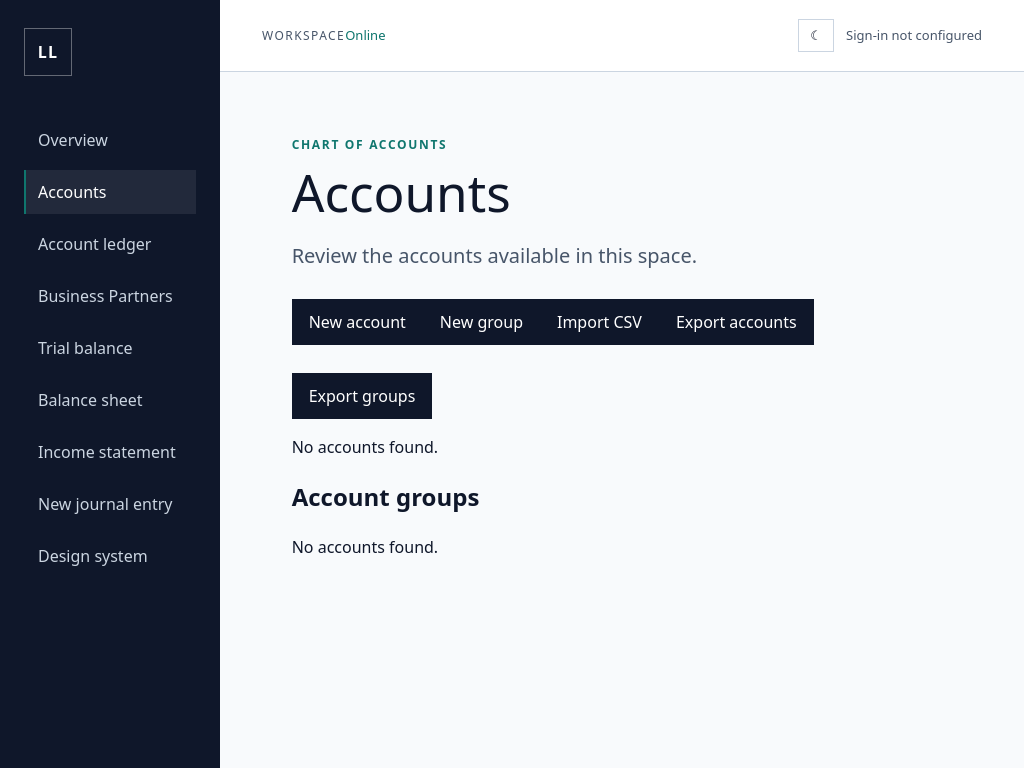
it: app routes › navigates from the shell account-ledger link to the selector route
What coordinates should you click on to do the following:
click the link "Account ledger"
I would click on:
 (95, 244)
Its box is [38, 233, 152, 255].
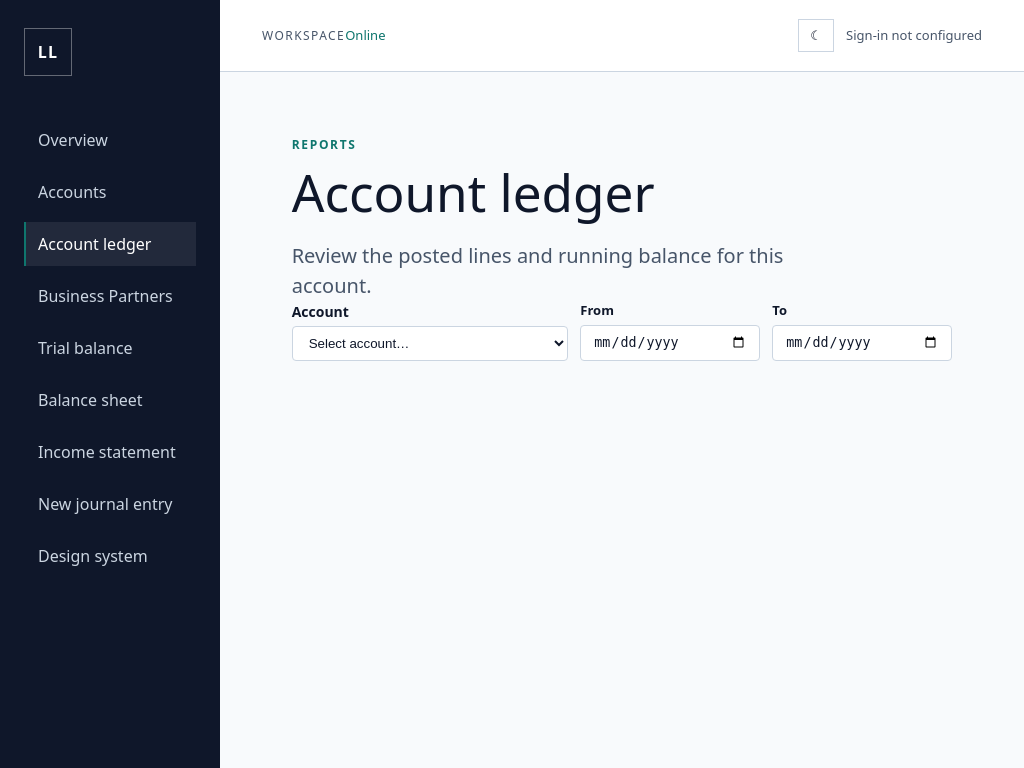
Check: the heading "Account ledger" is shown, box [292, 157, 655, 227]
